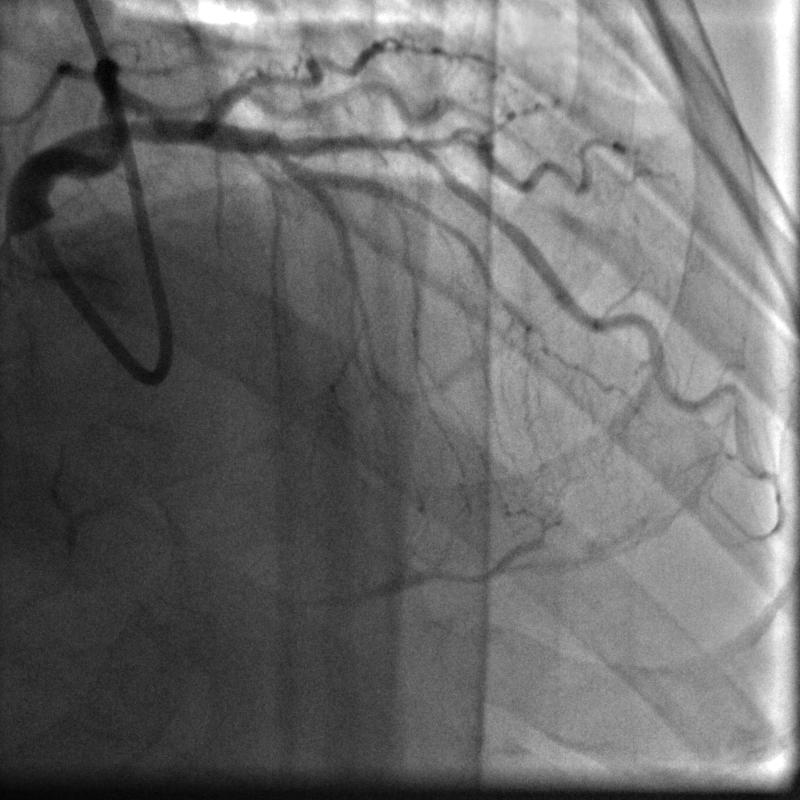Stenosis: (352, 130, 431, 157)
